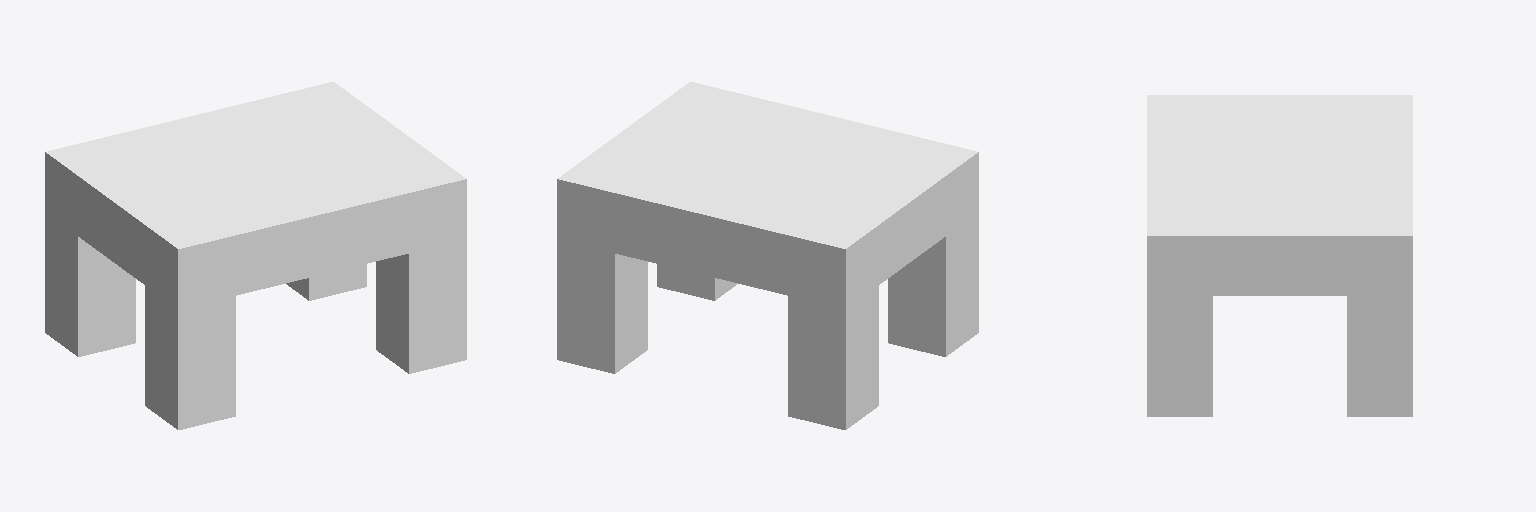
Rendered from table_1.obj.
The picture shows the model from 3 angles: view 1: azimuth 30°, elevation 25°; view 2: azimuth 150°, elevation 25°; view 3: azimuth 270°, elevation 25°; orthographic projection.
Visible parts, largest first — view 1: table_1; view 2: table_1; view 3: table_1.
Part boxes in pixels (x1,y1,x2,y2): table_1: (45,82,466,429); table_1: (557,82,978,429); table_1: (1147,95,1412,416).
Size of the model in its own units: 5 by 3 by 4.